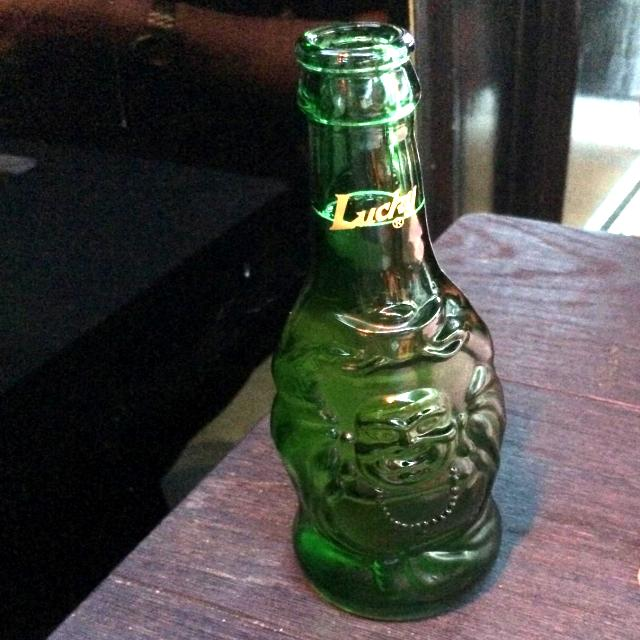Glass: (271, 21, 505, 621)
